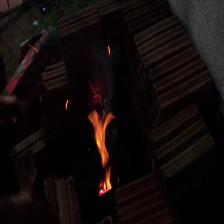fire: (90, 101, 122, 201)
